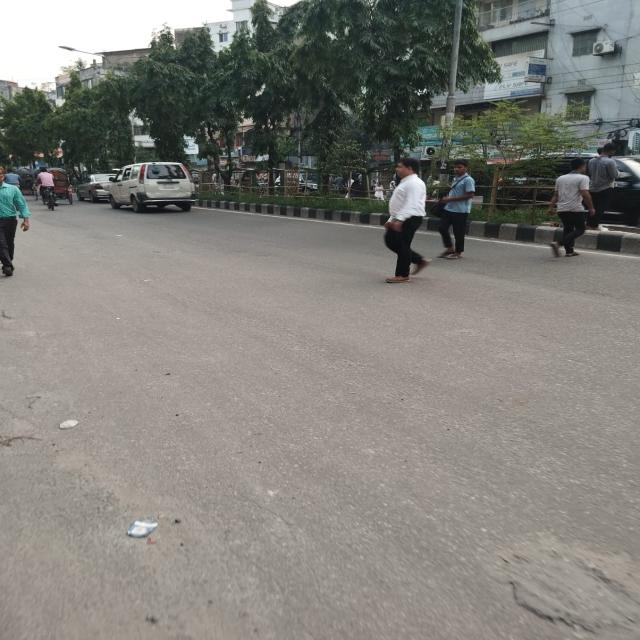person: (384, 158, 430, 284), (0, 166, 30, 278)
